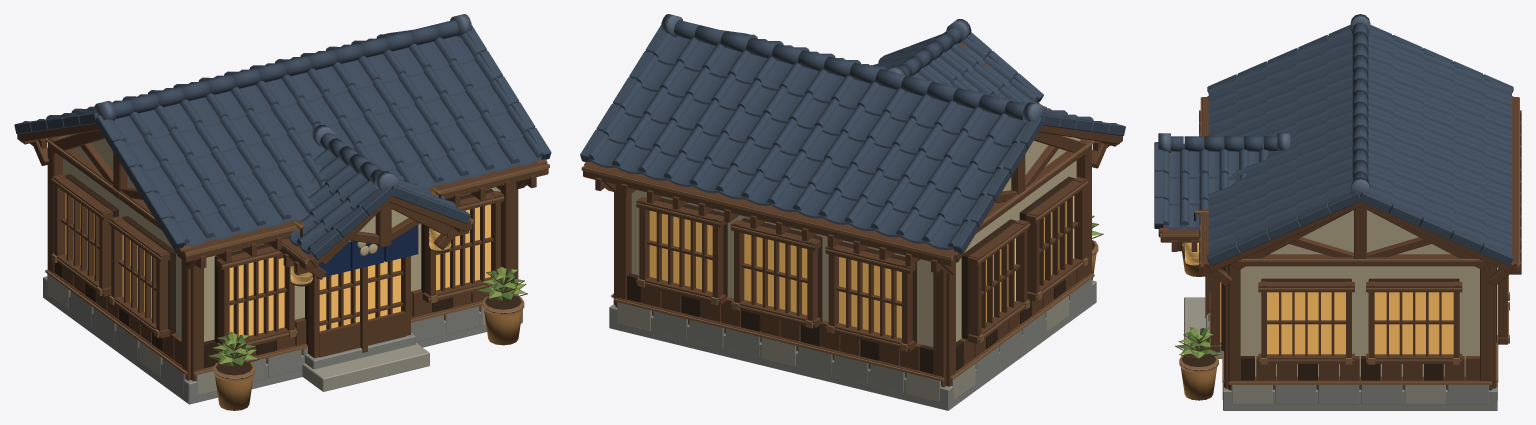
The picture shows the model from 3 angles, left to right: view 1: azimuth 30°, elevation 25°; view 2: azimuth 150°, elevation 25°; view 3: azimuth 270°, elevation 25°; orthographic projection. The views are drawn at different scales.
Parts seen in each view (by area): view 1: compact_hotel_1_geometry, compact_hotel_1_geometry ceramic; view 2: compact_hotel_1_geometry, compact_hotel_1_geometry ceramic; view 3: compact_hotel_1_geometry ceramic, compact_hotel_1_geometry.
Boxes of the visible parts, x1=… form: compact_hotel_1_geometry: x1=17, y1=37, x2=549, y2=410; compact_hotel_1_geometry ceramic: x1=14, y1=14, x2=551, y2=259; compact_hotel_1_geometry: x1=581, y1=37, x2=1122, y2=410; compact_hotel_1_geometry ceramic: x1=580, y1=14, x2=1125, y2=253; compact_hotel_1_geometry ceramic: x1=1154, y1=14, x2=1513, y2=265; compact_hotel_1_geometry: x1=1158, y1=96, x2=1521, y2=410.
Size of the model in its own units: 0.99 by 0.6338 by 0.8937.
